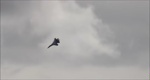maybay_muctieu: (48, 36, 59, 49)
